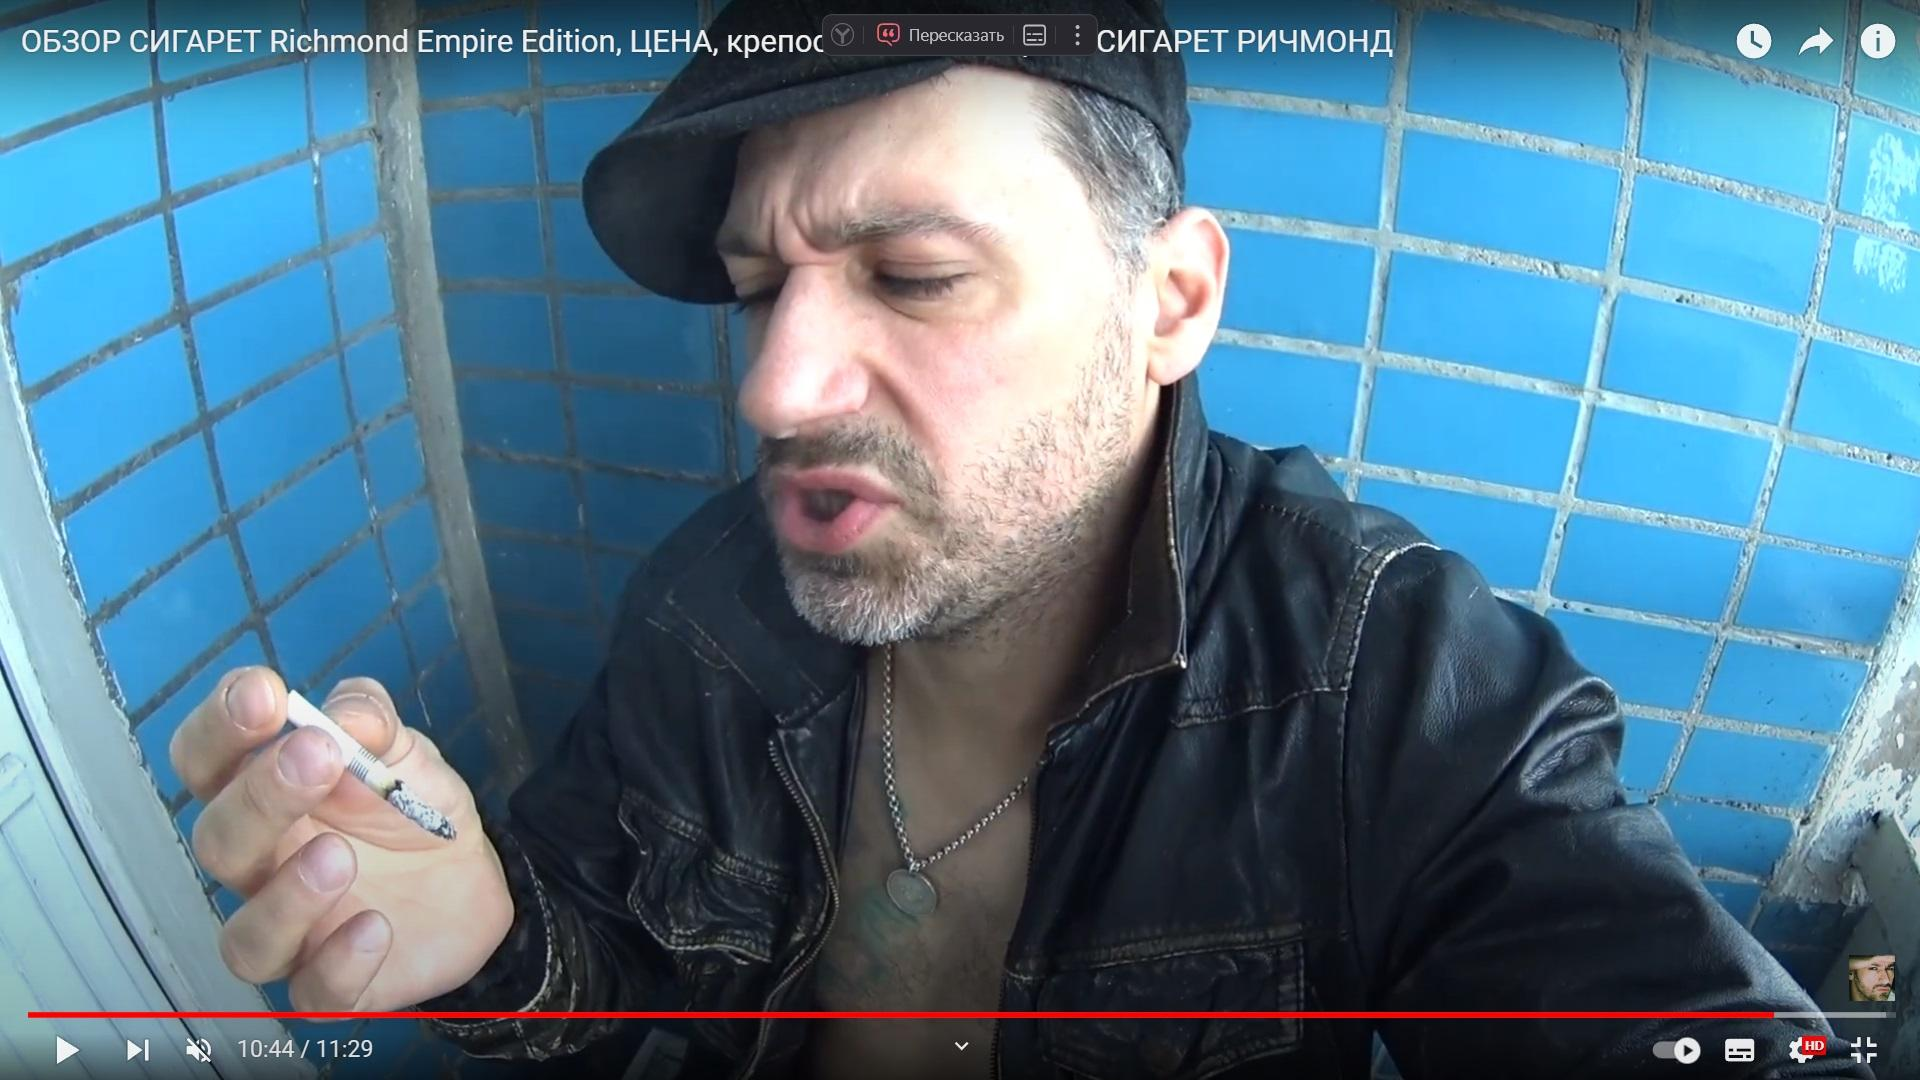cigarette: (289, 690, 454, 840)
